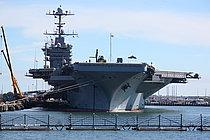MIL_Ship: (24, 4, 201, 113)
